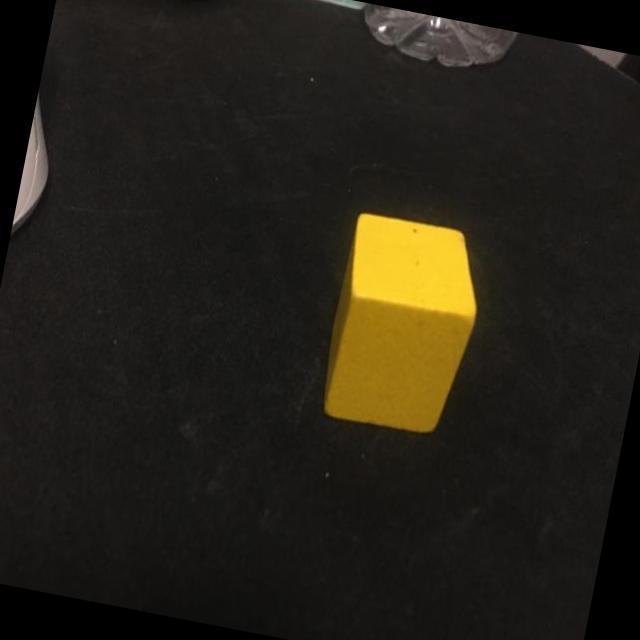yellow: (317, 211, 491, 438)
